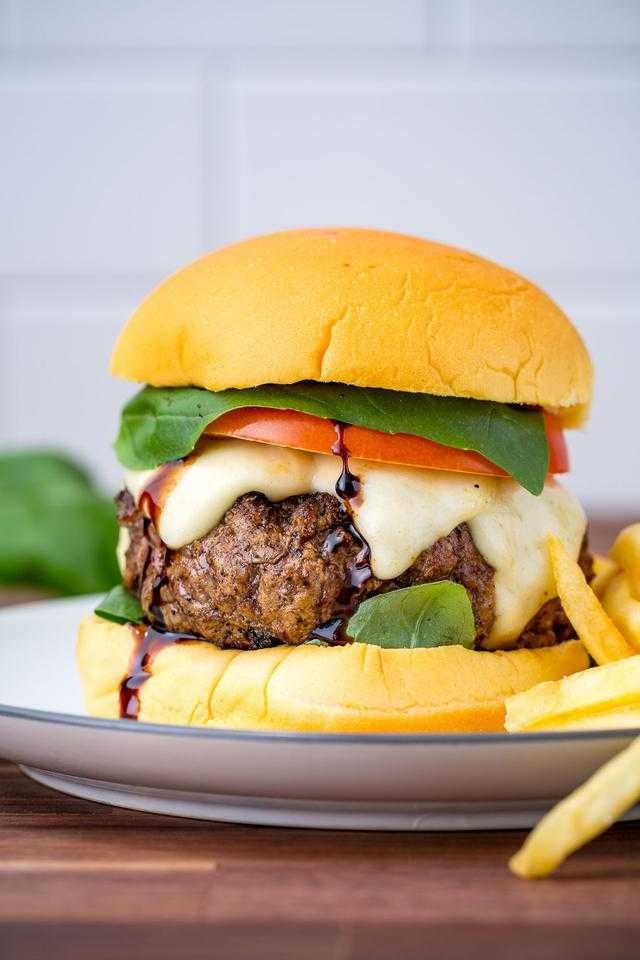hamburger: (75, 202, 600, 754)
